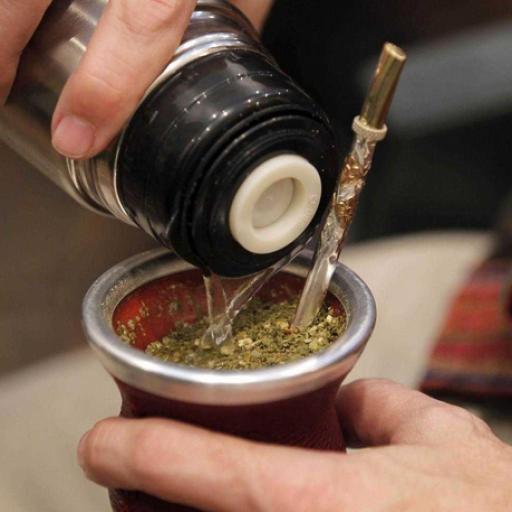mate: (91, 244, 385, 480)
termo: (32, 9, 328, 257)
